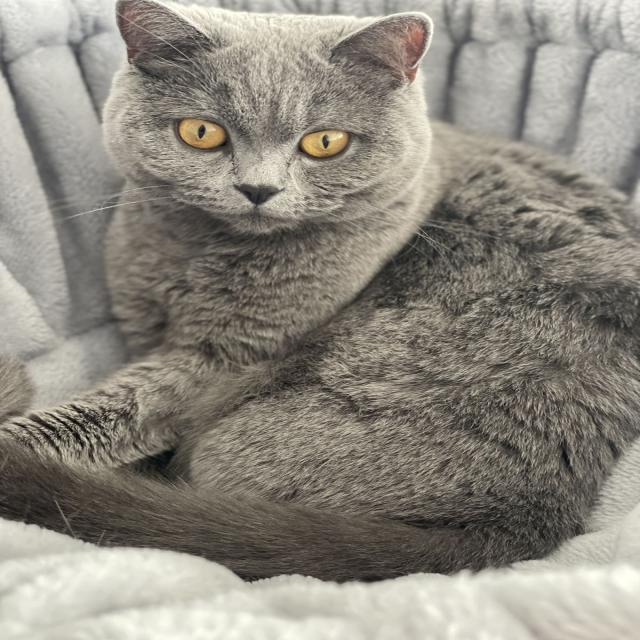british shorthair: (0, 0, 639, 581)
